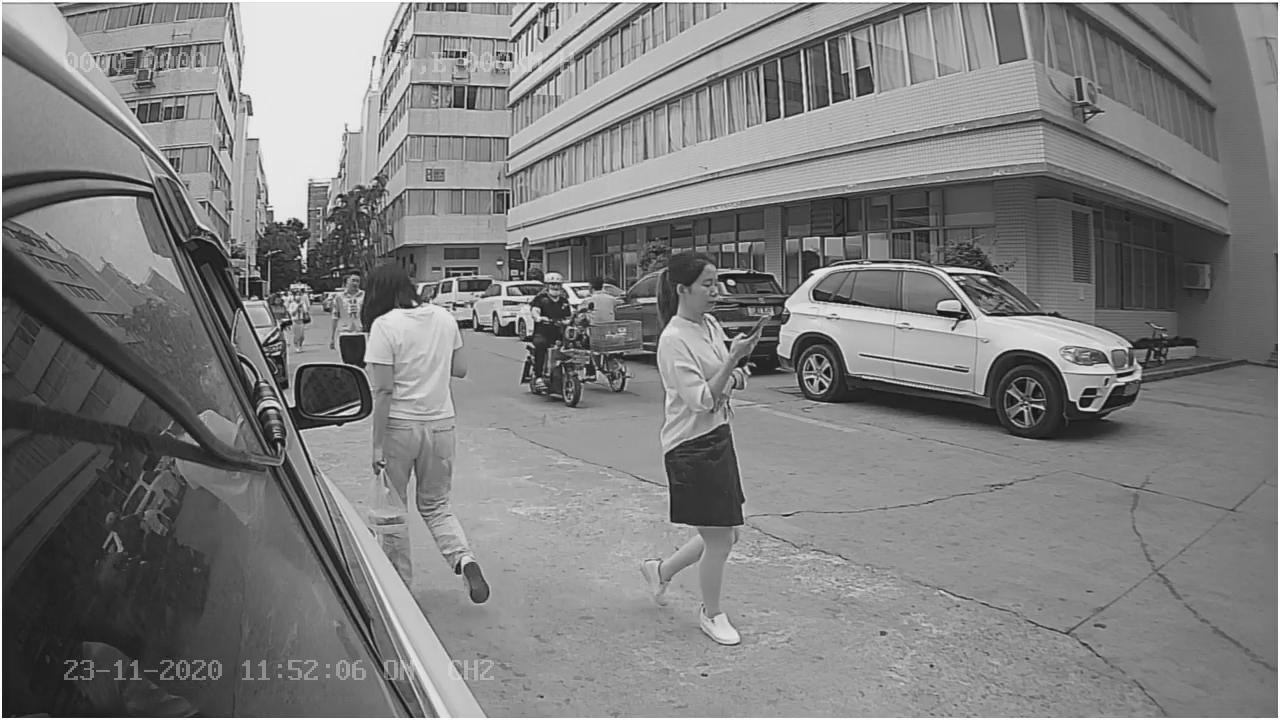person: (613, 251, 767, 647), (358, 262, 472, 363)
